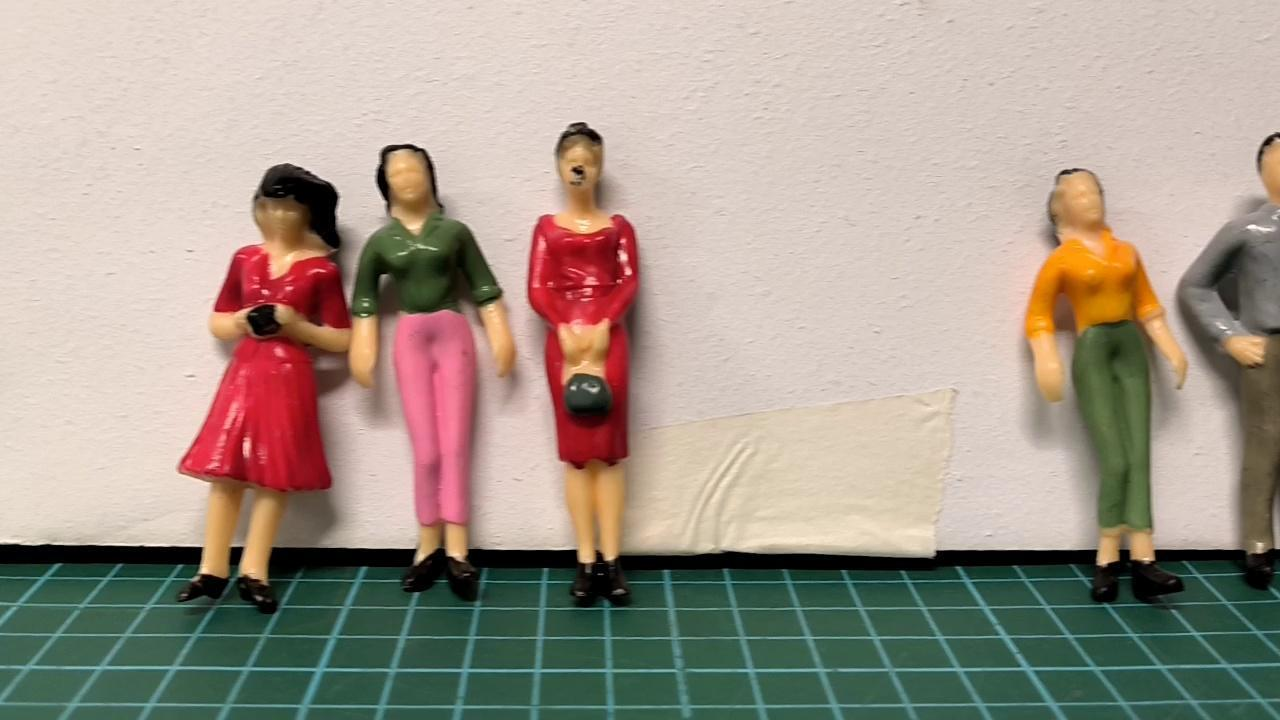human: (167, 160, 354, 617), (351, 136, 518, 605), (1024, 168, 1185, 606), (534, 122, 651, 605), (1175, 131, 1280, 603)
